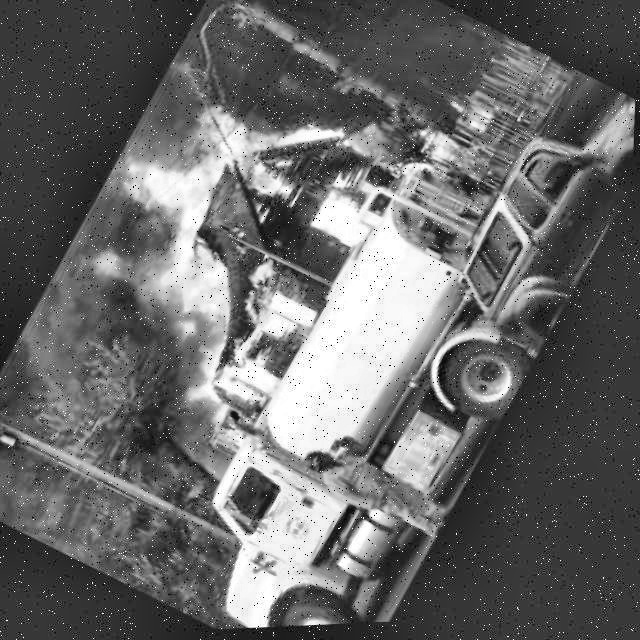Fire: (15, 37, 414, 473)
